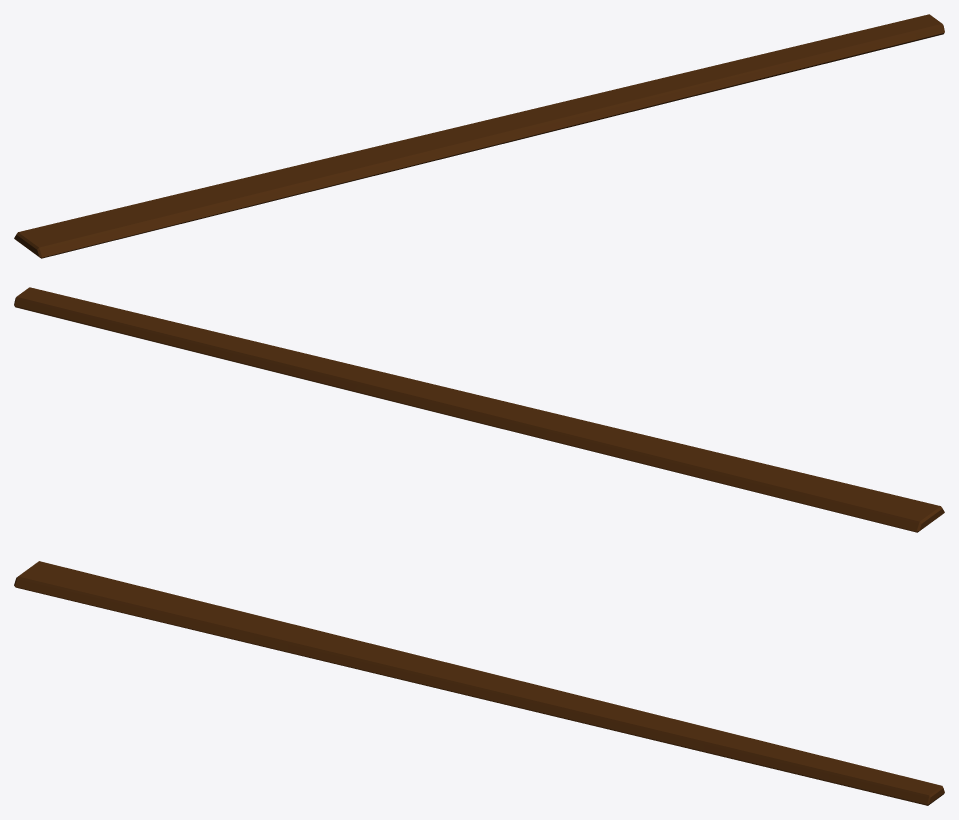
The model's file is BridgePlank01.FBX.
The picture shows the model from 3 angles, top to bottom: view 1: azimuth 30°, elevation 25°; view 2: azimuth 150°, elevation 25°; view 3: azimuth 330°, elevation 25°; orthographic projection.
Parts seen in each view (by area): view 1: Plank001; view 2: Plank001; view 3: Plank001.
Boxes of the visible parts, x1,y1,x2,y2 form: Plank001: (14,14,944,258); Plank001: (14,287,944,532); Plank001: (14,561,944,805).
Size of the model in its own units: 500 by 5 by 26.32.
